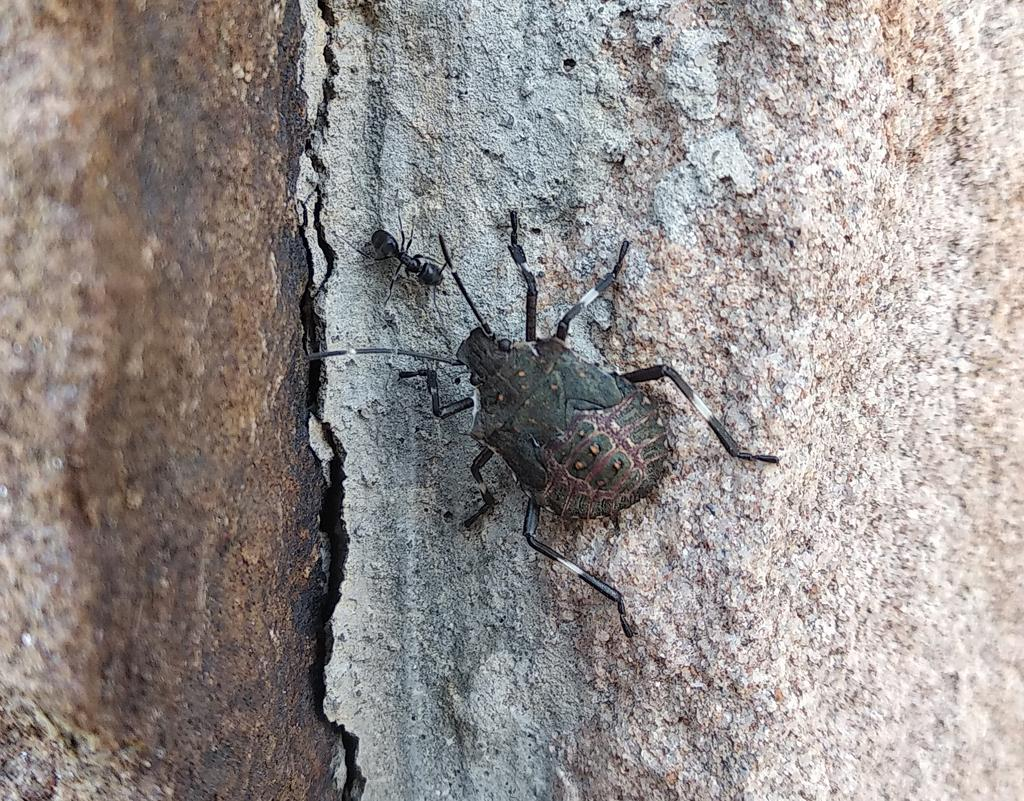stink_bugs: (272, 193, 812, 670)
